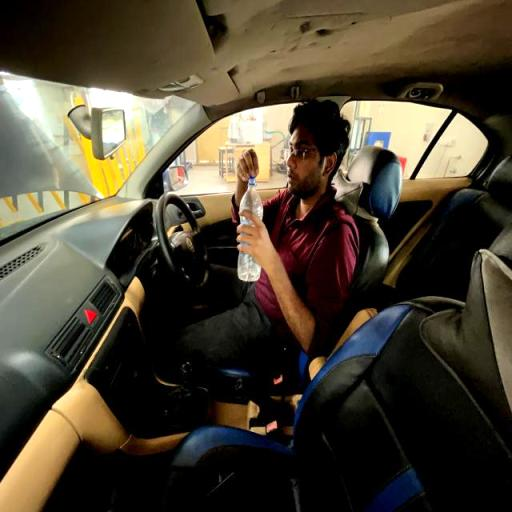Drinking: (215, 100, 369, 336)
